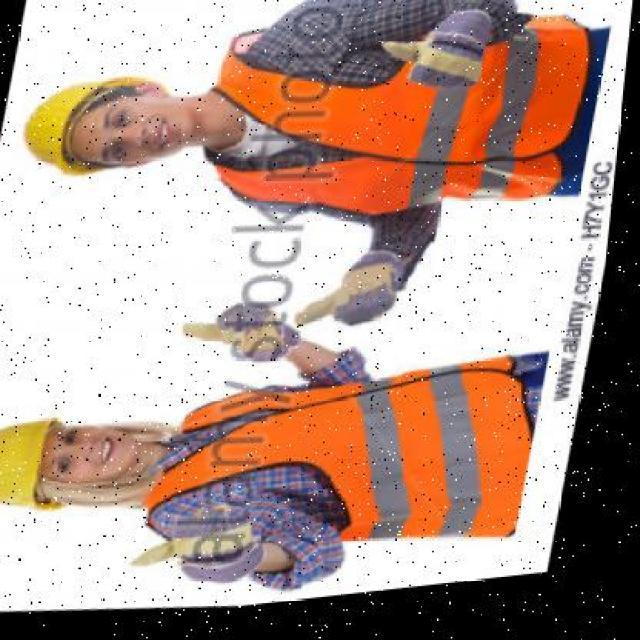helmet: (19, 57, 123, 190), (0, 403, 81, 527)
vest: (187, 0, 614, 255), (133, 340, 551, 598)
